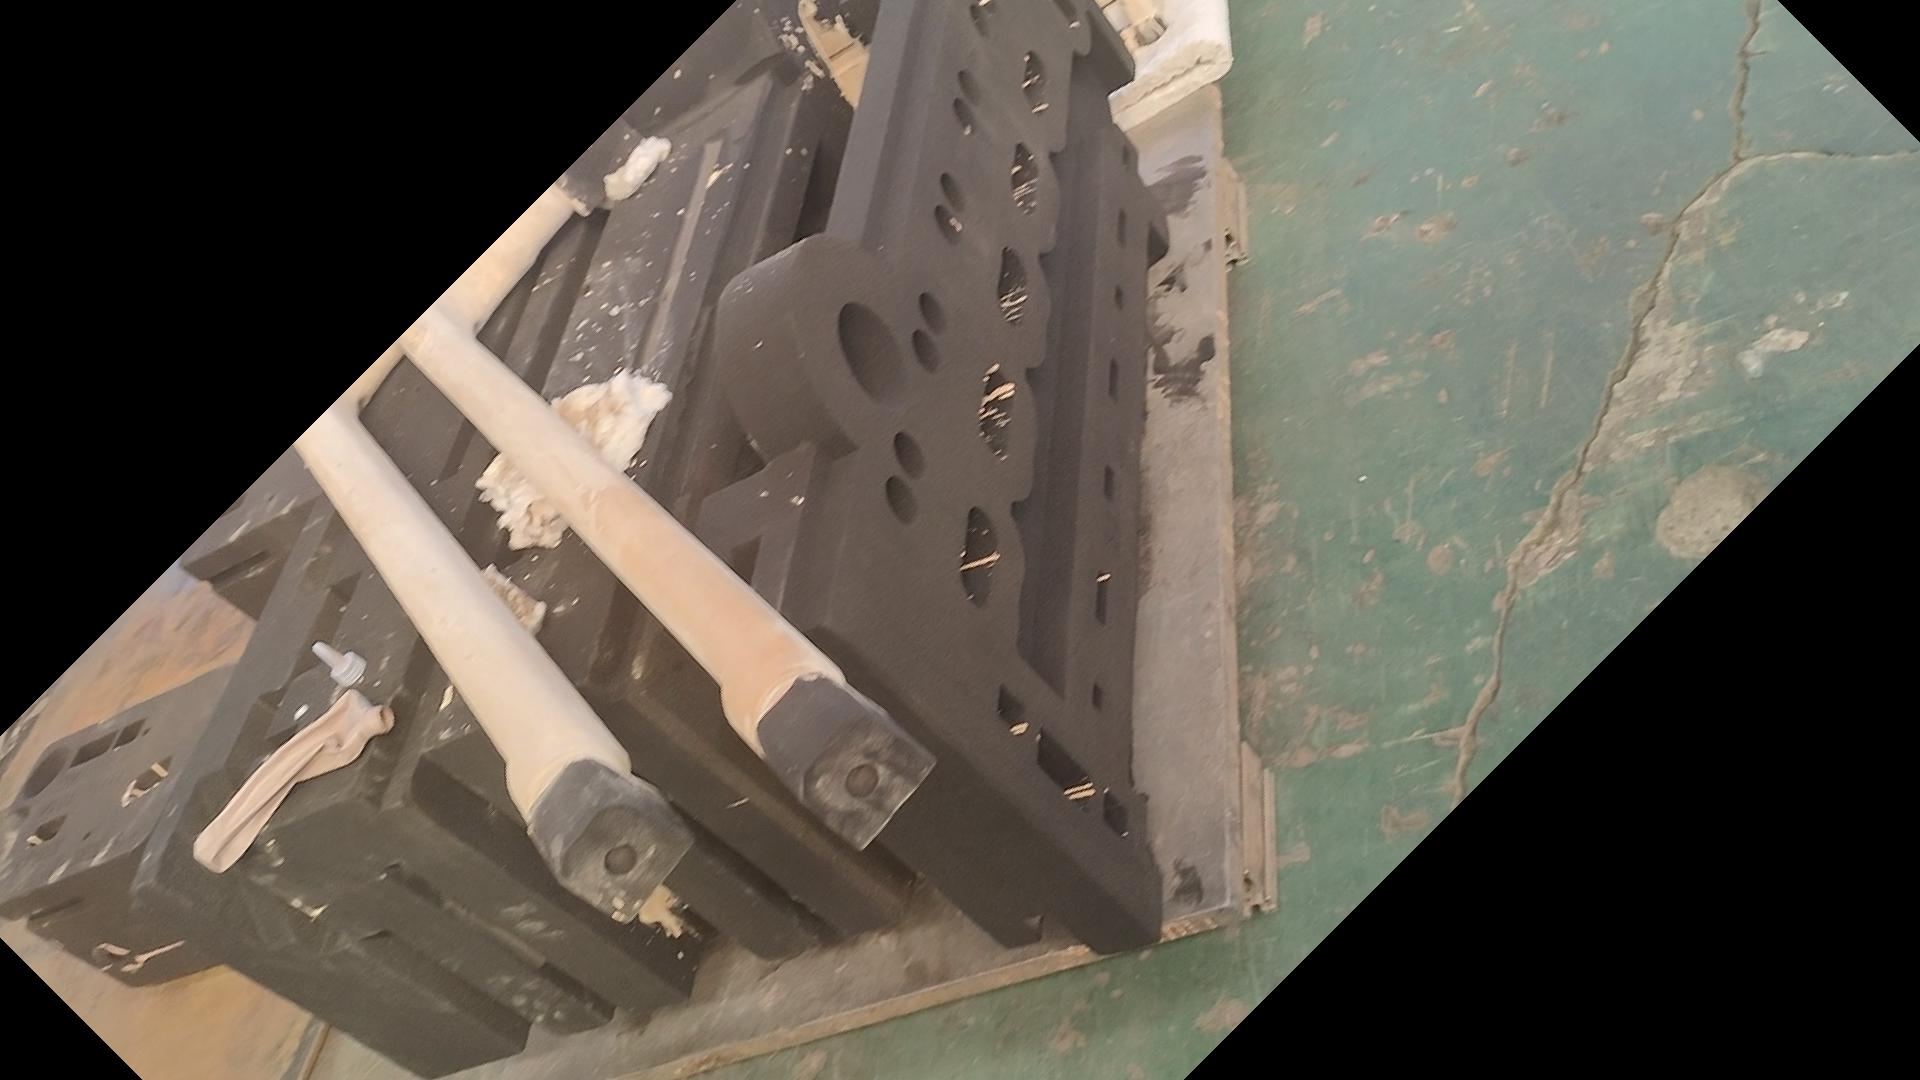pouring hole: (839, 302, 907, 407), (21, 744, 70, 802)
